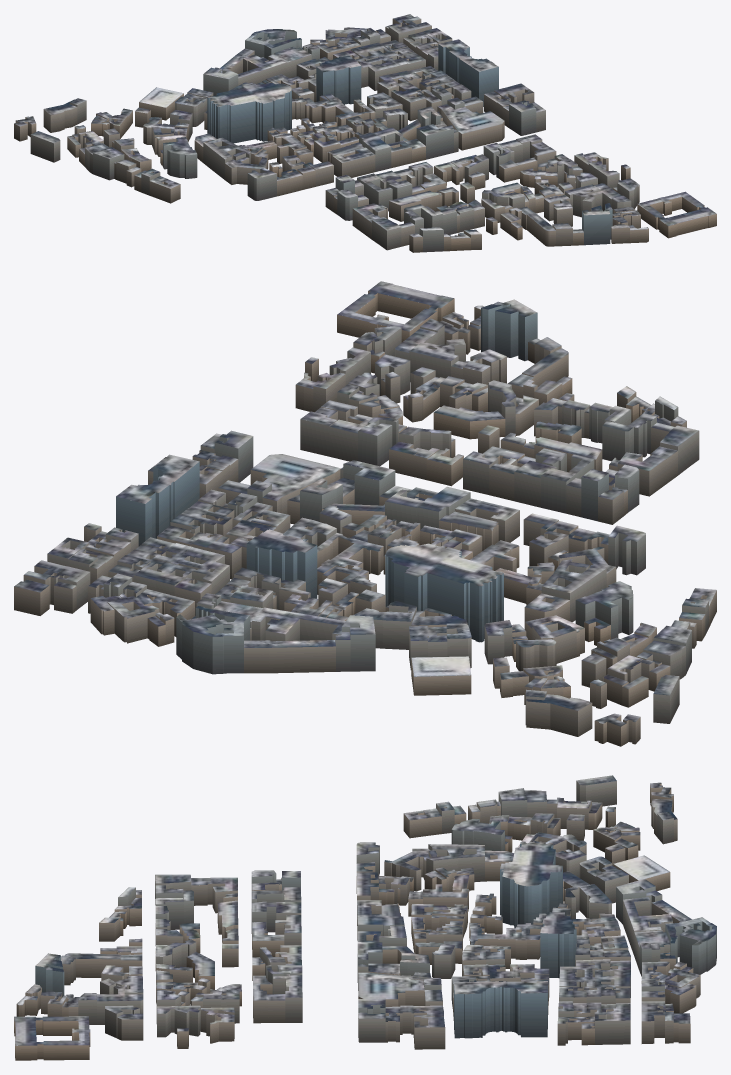
The picture shows the model from 3 angles, top to bottom: view 1: azimuth 30°, elevation 25°; view 2: azimuth 150°, elevation 25°; view 3: azimuth 270°, elevation 25°; orthographic projection. The views are drawn at different scales.
Bounding box in the file's own units: 540 × 44.44 × 613.
Materials: 2 (2 with a texture image).
